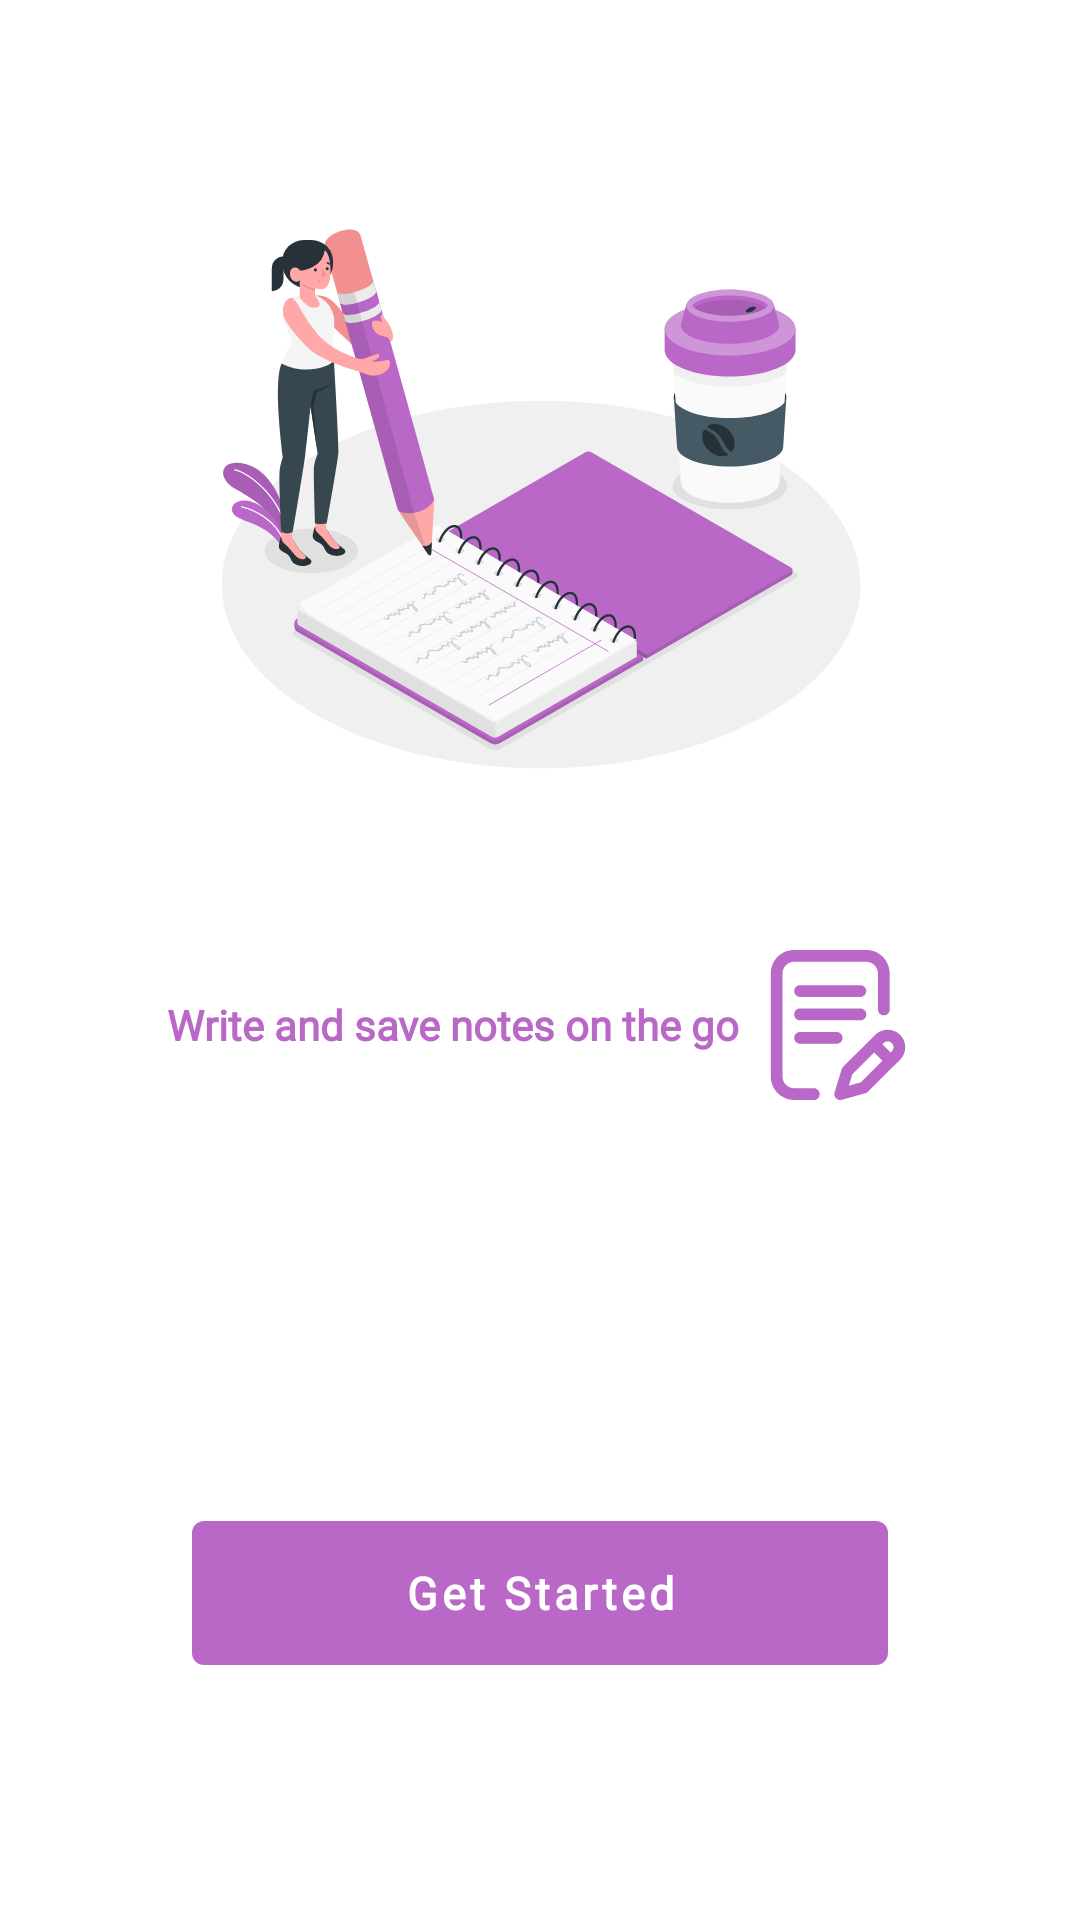

Point at icon controls on the screen. Image size 1080 × 1920, points as [x,y].
Note Icon: [838,1025]
